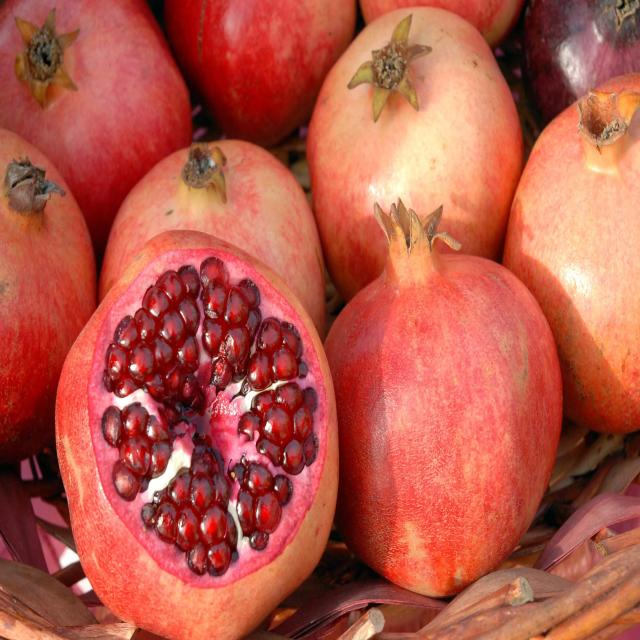apple: (331, 201, 566, 589), (505, 72, 638, 438), (102, 142, 335, 334), (306, 6, 525, 200), (3, 2, 192, 212), (1, 124, 96, 419), (168, 7, 357, 136)
